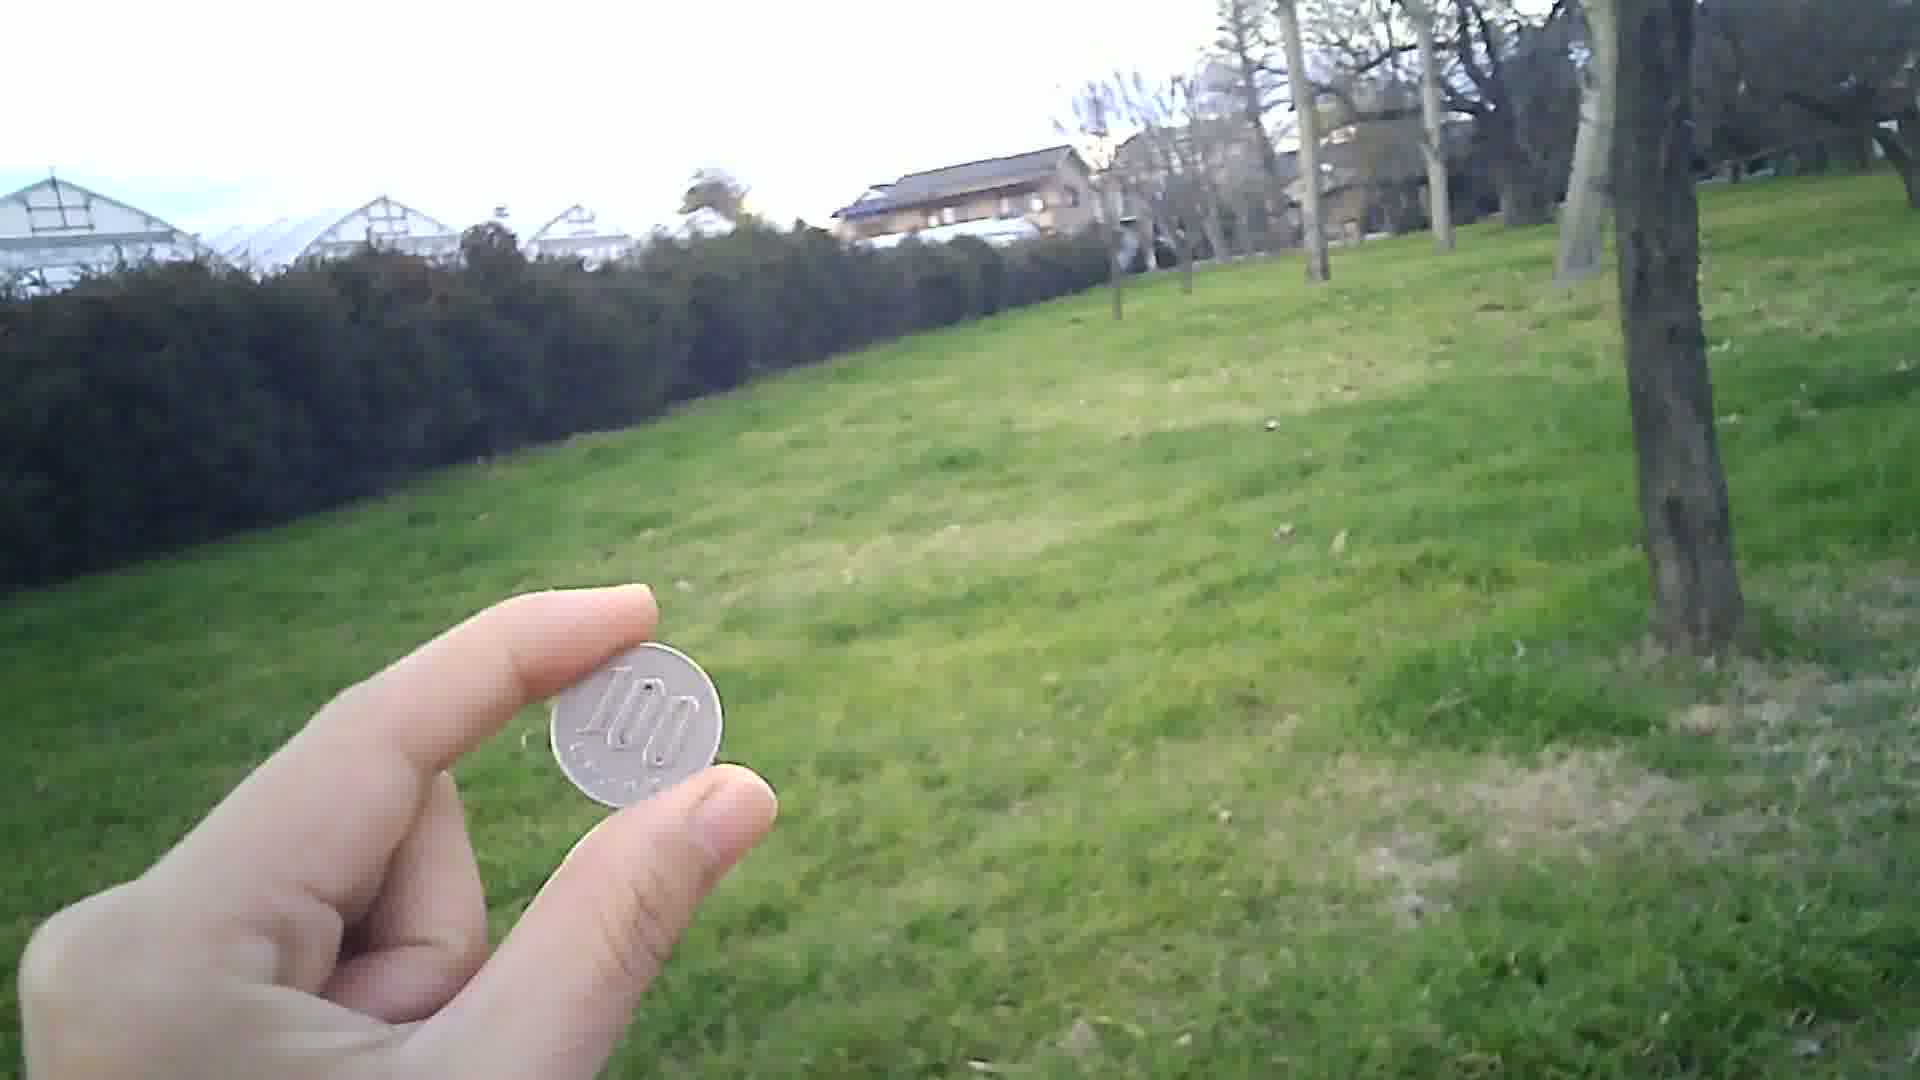100 Yen: (553, 636, 729, 815)
